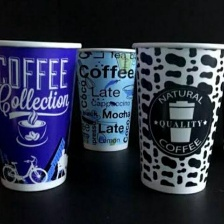paper_cup: (130, 38, 224, 198), (0, 33, 84, 195), (69, 43, 139, 155)
